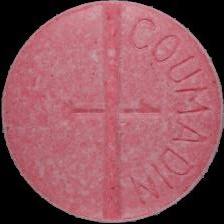54868-2128: (0, 0, 224, 224)
